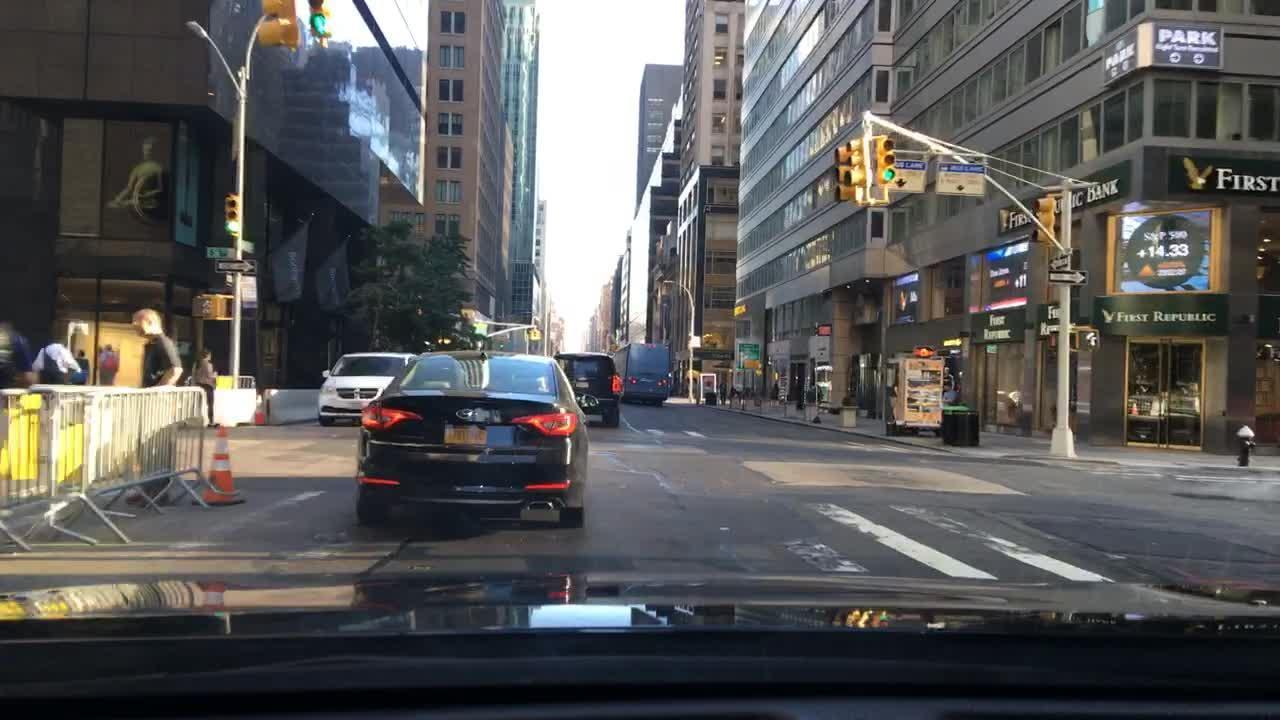Hyundai: (449, 402, 482, 425)
